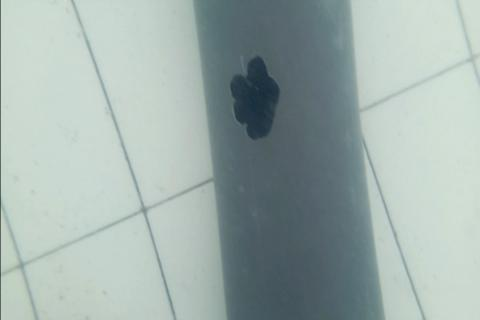kebocoran: (228, 51, 281, 144)
